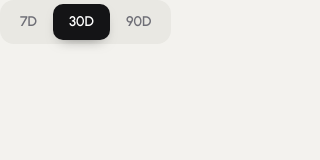
Test: SegmentedControl › calls onChange and moves the pressed state when another option is chosen
The image size is (320, 160).
Click the button "7D".
click(28, 22)  # box [4, 4, 53, 40]
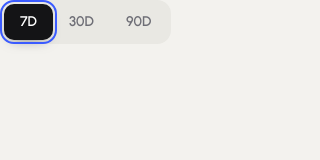
expect the button "7D" is pressed: met, box [4, 4, 53, 40]
expect the button "30D" is not pressed: met, box [53, 4, 110, 40]
